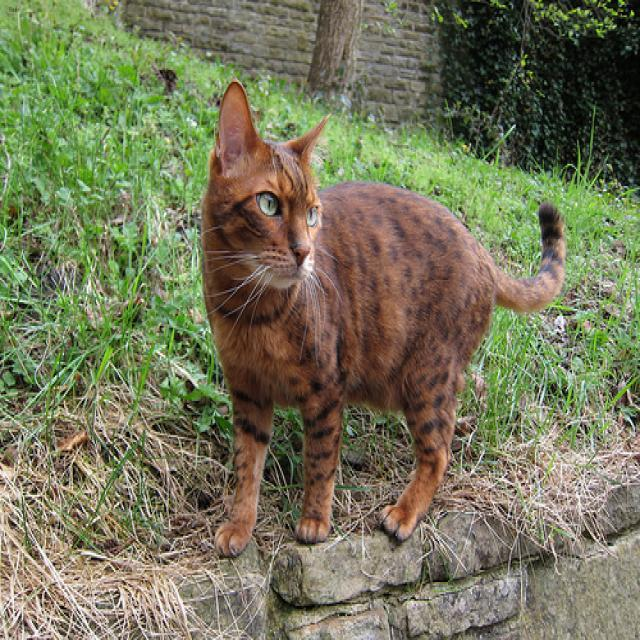Bengal: (195, 75, 330, 295)
